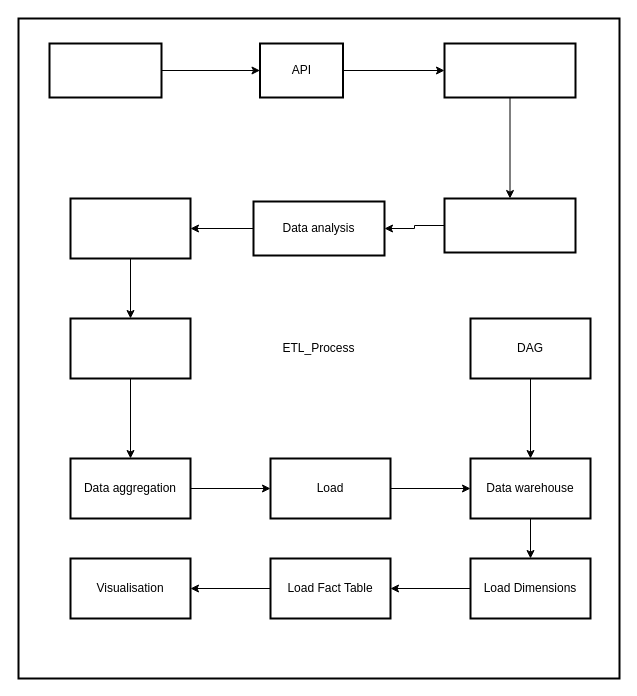
This 637x696 diagram has some shape labels left out. Each missing label, with the box of its shape:
Concatenation: (443, 197, 576, 253)
Data_cleaning: (69, 317, 191, 379)
Data_Filtration: (69, 197, 191, 259)
Extract: (48, 42, 162, 98)
Transform: (443, 42, 576, 98)
